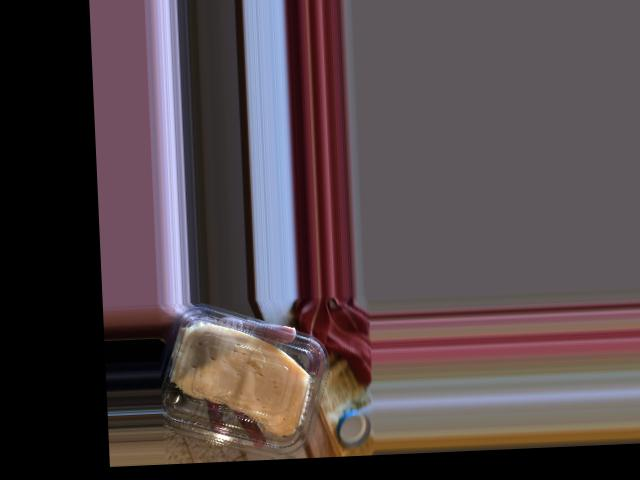cheese: (156, 308, 334, 455)
